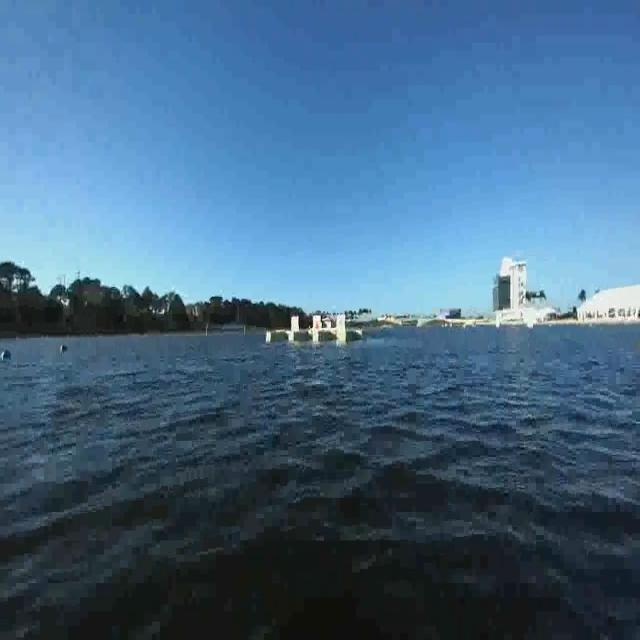black-buoy: (1, 347, 12, 363), (62, 343, 70, 354)
